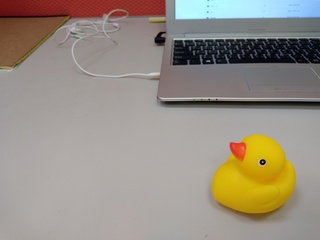duck: (211, 132, 301, 221)
